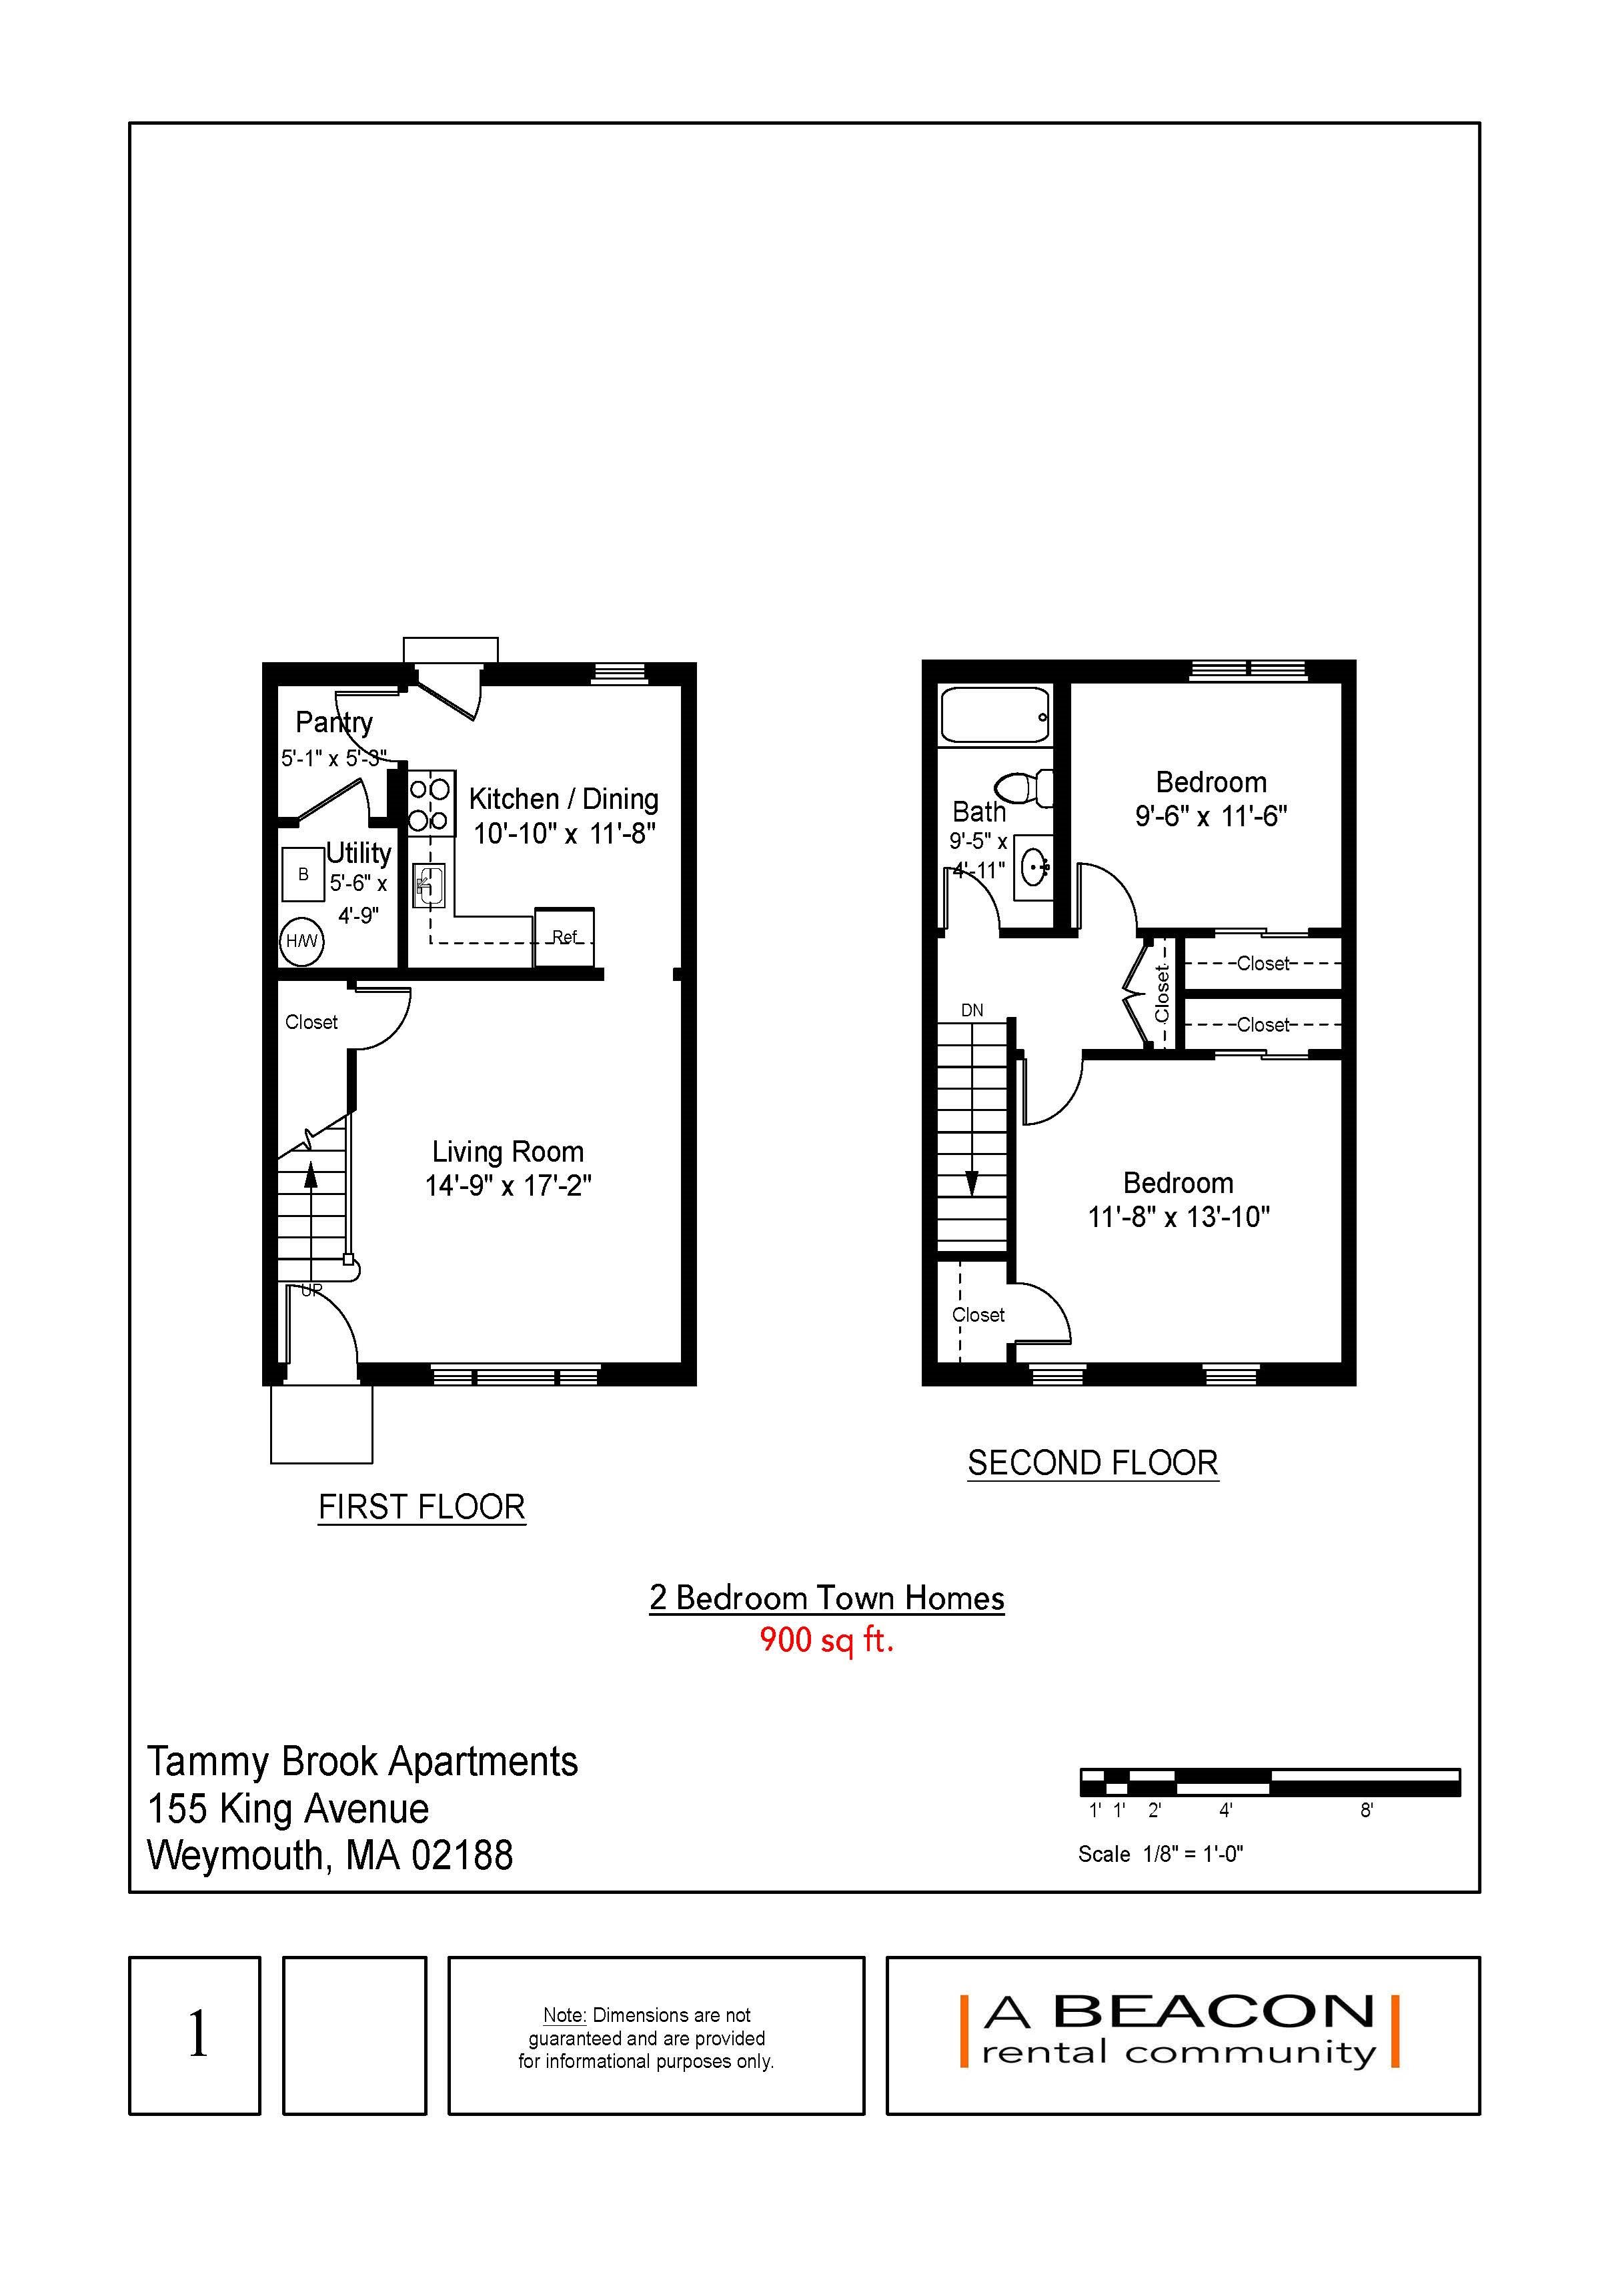door: (283, 1282, 361, 1357), (359, 982, 422, 1059), (330, 689, 391, 768), (1074, 855, 1143, 923), (1019, 1066, 1088, 1132), (942, 860, 1006, 926), (412, 686, 495, 733), (1019, 1279, 1078, 1345), (1111, 949, 1153, 1038), (304, 775, 382, 817)
